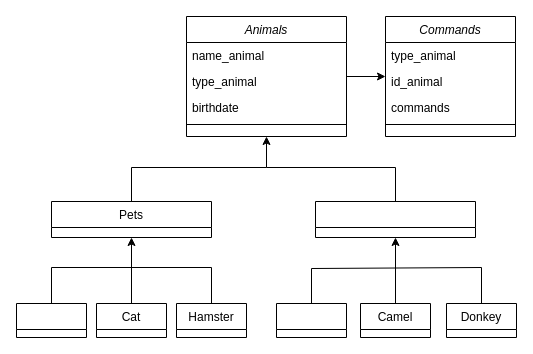
Image size: 533x354. Some labels were removed from this diagram. The shapes that lost their labels are listed below. From the top down, each one's centre as x and y in pixels, then its label:
At point (395, 219): "PackAnimals".
At point (51, 320): "Dog".
At point (311, 320): "Horse".
